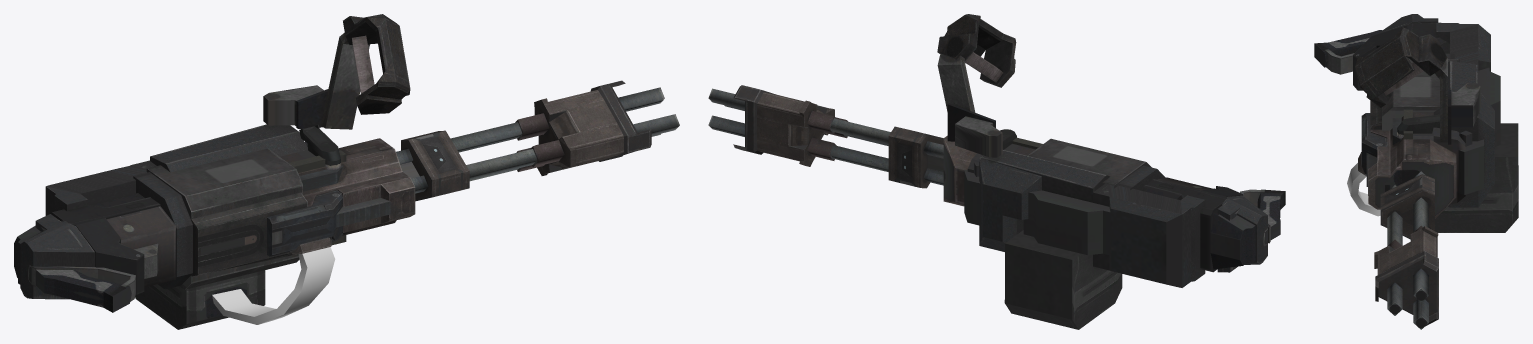
File: t6_wpn_minigun_world_LOD_1.obj
3 renders of one model, left to right at view 1: azimuth 30°, elevation 25°; view 2: azimuth 150°, elevation 25°; view 3: azimuth 270°, elevation 25°, orthographic. The views are drawn at different scales.
Parts seen in each view (by area): view 1: TomGroup_0, TomGroup_1; view 2: TomGroup_0; view 3: TomGroup_0, TomGroup_1.
Part boxes in pixels (left/top/right/bottom): TomGroup_0: left=14, top=14, right=679, bottom=329; TomGroup_1: left=212, top=247, right=335, bottom=324; TomGroup_0: left=708, top=14, right=1285, bottom=329; TomGroup_0: left=1314, top=14, right=1518, bottom=329; TomGroup_1: left=1347, top=163, right=1380, bottom=216.
Size of the model in its own units: 121 by 51.02 by 38.38.
